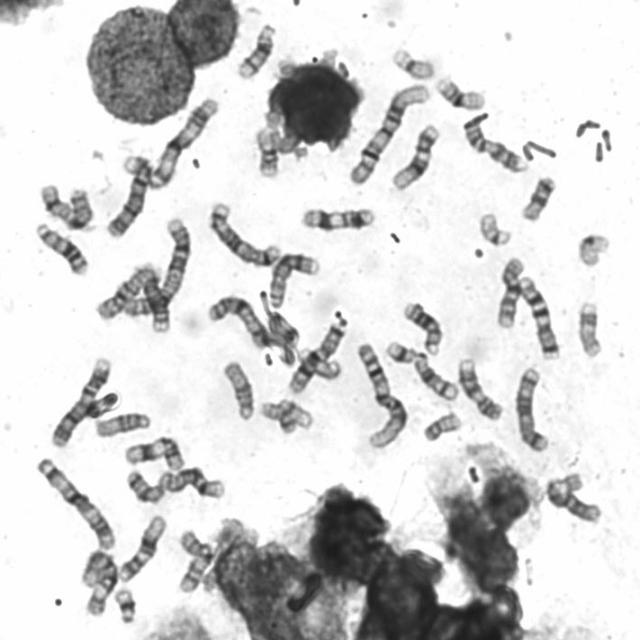A1: (346, 82, 432, 189), (353, 341, 411, 449)
A2: (119, 214, 194, 319), (97, 262, 173, 334)
A3: (28, 454, 118, 551), (145, 95, 220, 192)
B4: (48, 353, 112, 449), (105, 152, 154, 240)
B5: (207, 203, 284, 269), (511, 365, 553, 453)
C10: (491, 254, 526, 332), (173, 527, 213, 595)
C11: (124, 434, 186, 472), (302, 206, 374, 232)
C12: (391, 119, 443, 193), (117, 513, 170, 584)
C6: (542, 470, 605, 528), (72, 550, 120, 620)
C7: (288, 324, 347, 394), (516, 276, 562, 360)
C8: (268, 252, 322, 310), (158, 466, 228, 502)
C9: (460, 120, 532, 173), (455, 356, 505, 422)
D13: (33, 222, 91, 276), (402, 299, 446, 360)
D14: (410, 349, 462, 402), (235, 24, 276, 80)
D15: (222, 358, 256, 421), (94, 412, 152, 438)
E16: (434, 75, 489, 111), (250, 126, 280, 180)
E17: (575, 298, 606, 362), (296, 345, 343, 380)
E18: (518, 173, 558, 223), (125, 469, 164, 505)
F19: (387, 46, 438, 81), (572, 234, 614, 269)
F20: (420, 409, 463, 443), (260, 402, 296, 434)
G21: (111, 588, 140, 626), (384, 336, 414, 364)
G22: (477, 211, 513, 248), (278, 398, 314, 430)
X: (205, 292, 268, 348), (40, 181, 94, 233)
